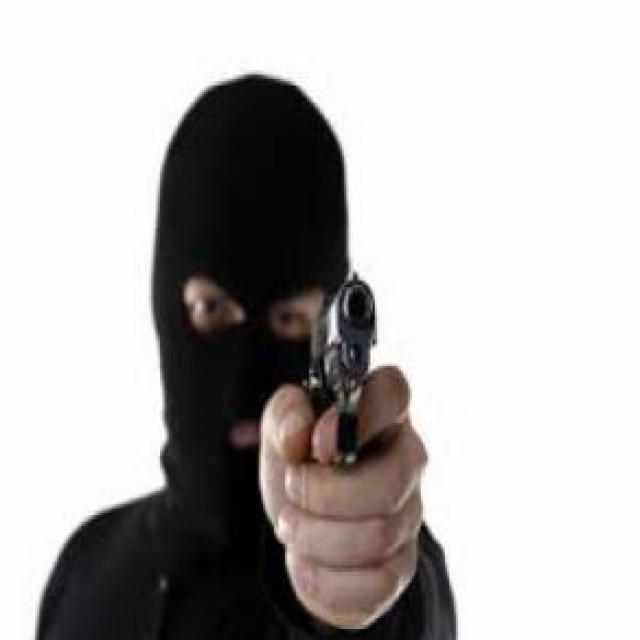pistol: (302, 267, 379, 478)
